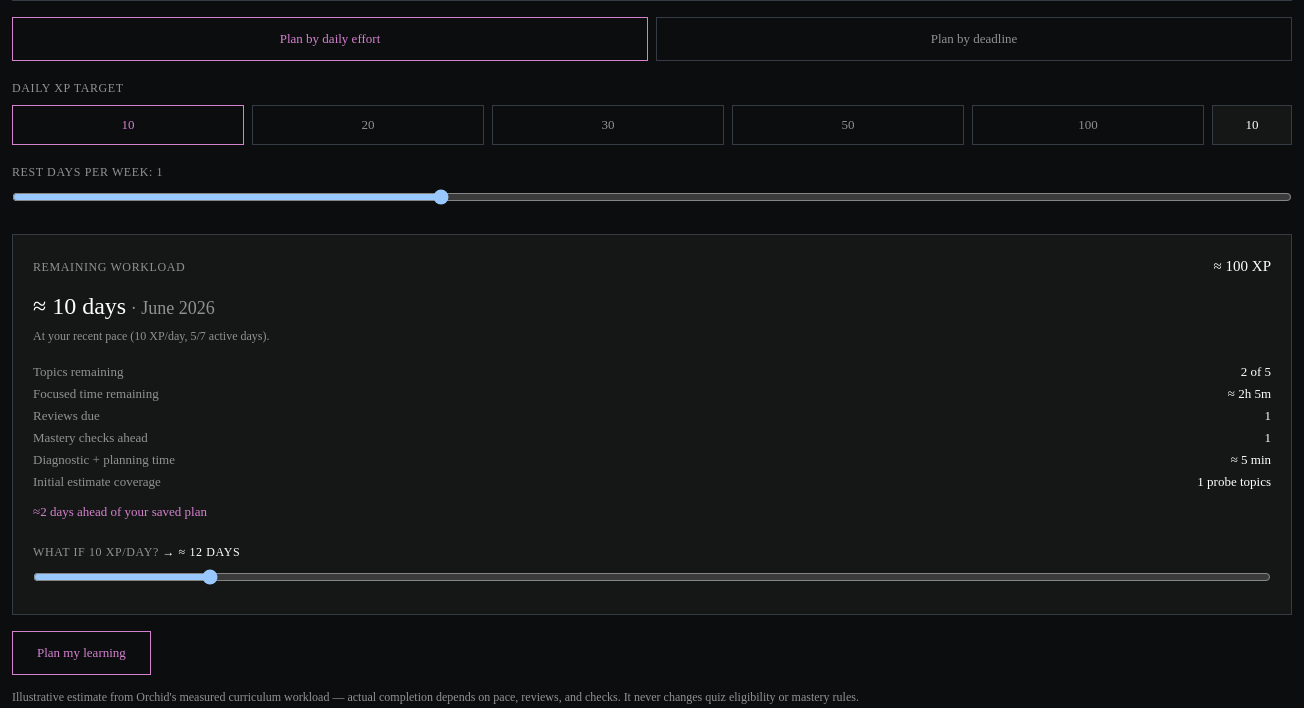
Test: PlanEditor › loads destinations, renders the estimate, and saves the plan
(page scrolled)
Expected: the text "Remaining workload" is shown, left=33, top=257, right=185, bottom=278
Expected: the text "Topics remaining" is shown, left=33, top=363, right=123, bottom=381
Click the button "Plan my learning": (81, 653) left=12, top=631, right=151, bottom=675
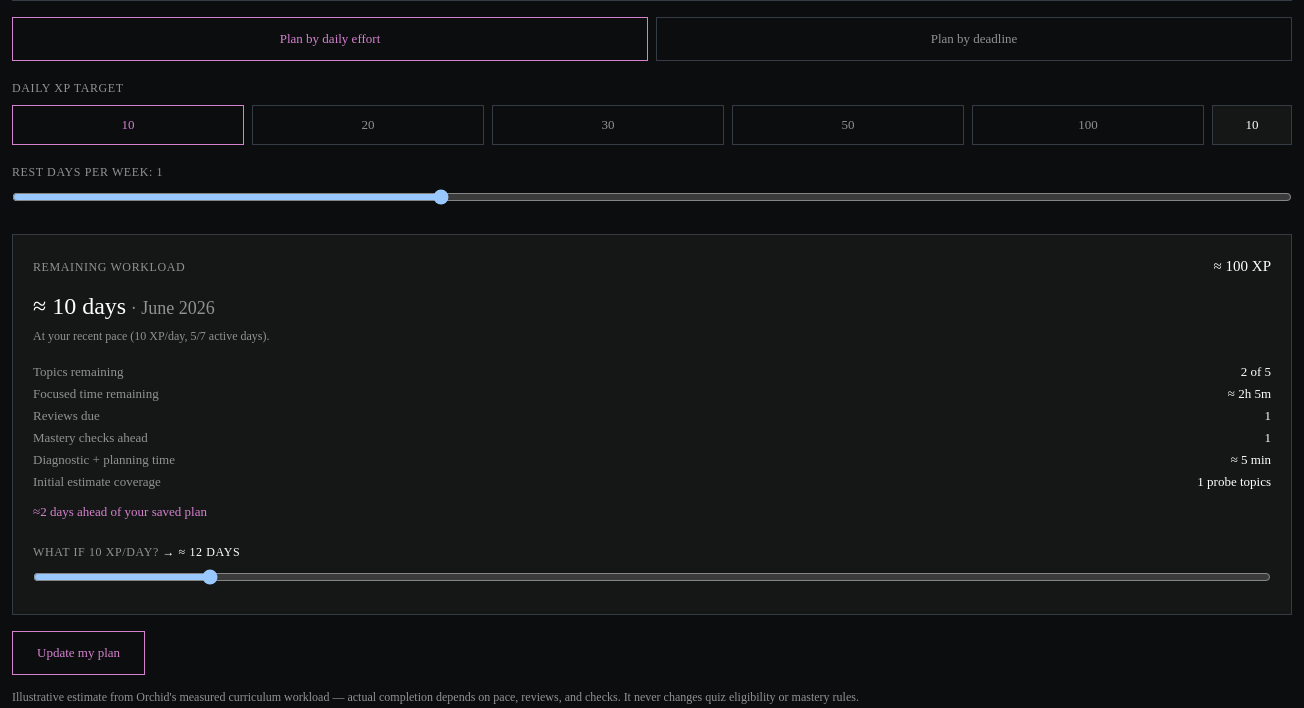
Expected: the button "Update my plan" is shown, left=12, top=631, right=145, bottom=675
